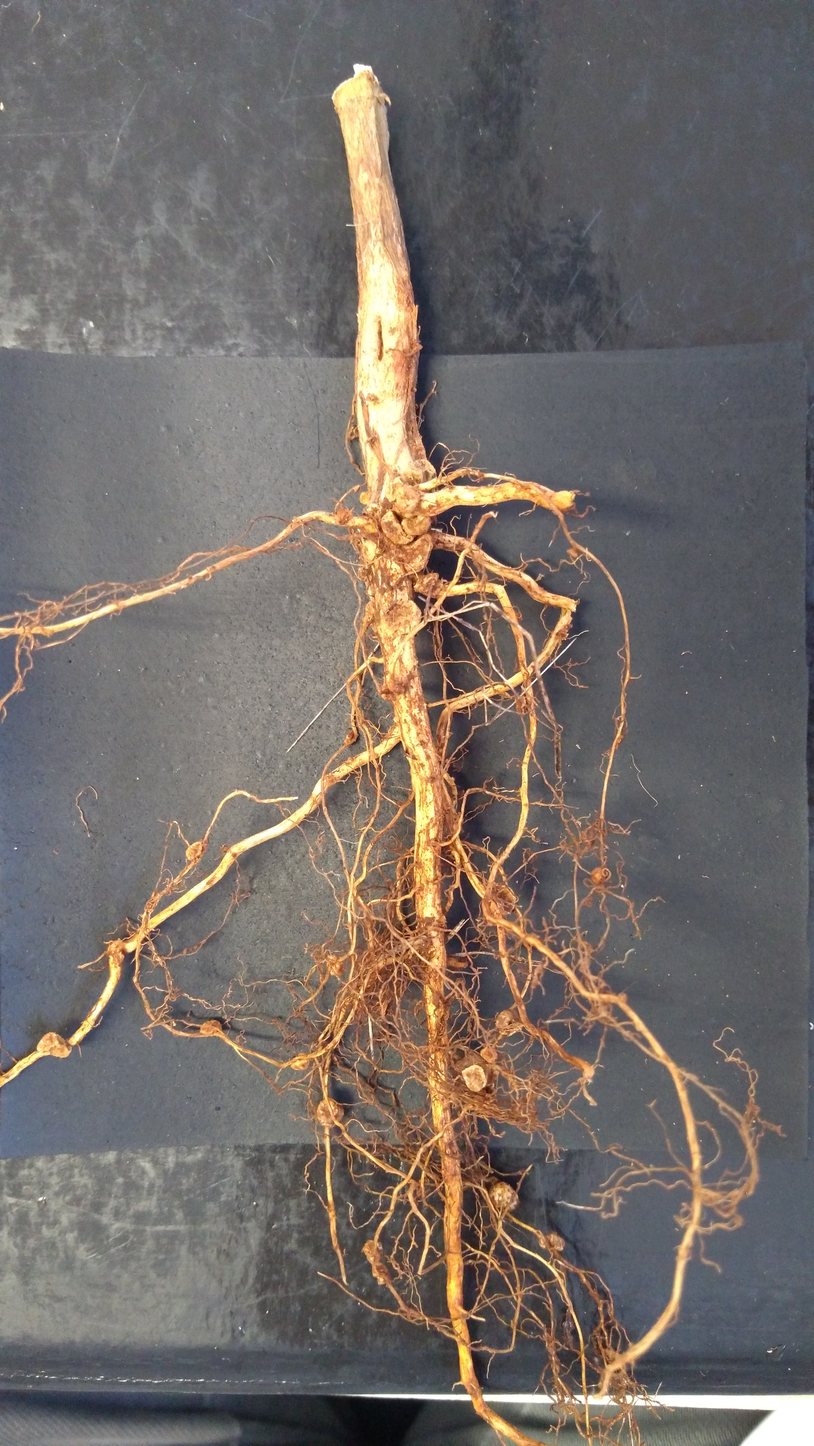nodule: (375, 504, 417, 549), (360, 1234, 395, 1288), (485, 877, 521, 918), (310, 1096, 349, 1133), (36, 1031, 76, 1064), (487, 1179, 523, 1215), (532, 1232, 576, 1258), (390, 599, 423, 633), (409, 571, 449, 599), (390, 481, 420, 516), (494, 1004, 526, 1035), (461, 1062, 490, 1094), (400, 511, 434, 538), (510, 689, 532, 715), (287, 1052, 311, 1074), (185, 839, 206, 864), (197, 1017, 223, 1037), (357, 488, 378, 511), (334, 506, 355, 528), (479, 1044, 500, 1066), (445, 953, 470, 971), (354, 559, 372, 581), (589, 864, 608, 884), (340, 729, 360, 745), (365, 597, 379, 615), (566, 545, 580, 559), (617, 991, 628, 1004)
